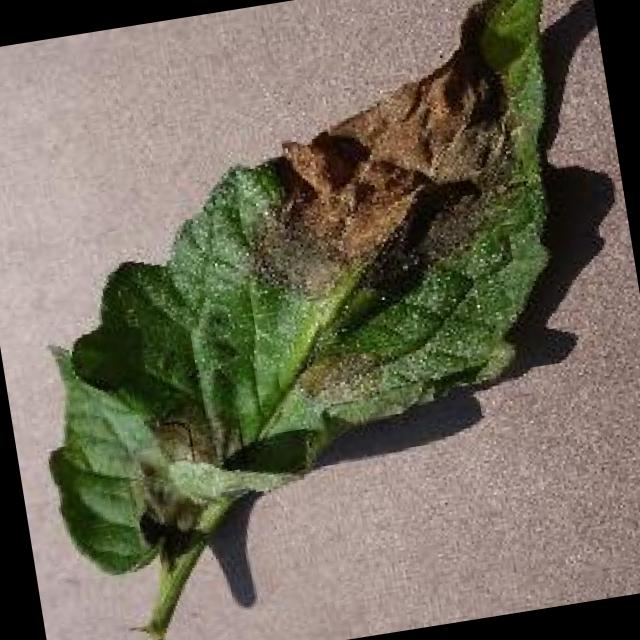Tomato_Late_Blight: (232, 52, 548, 324), (110, 366, 260, 554), (296, 328, 422, 418)
